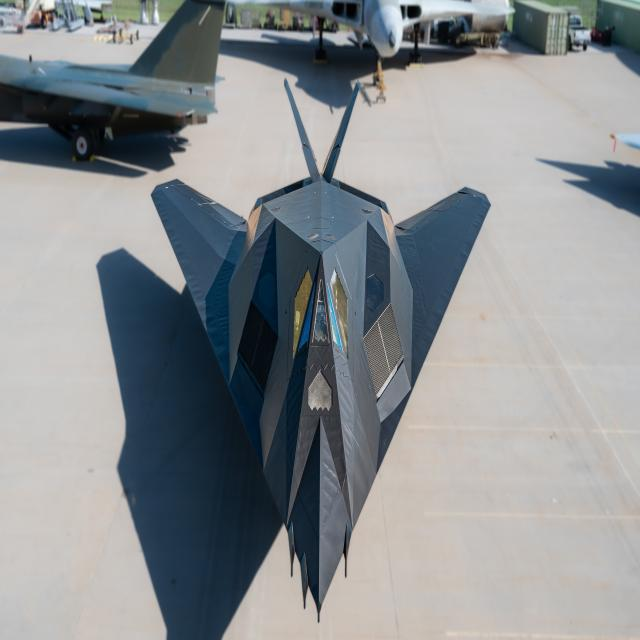F117: (143, 28, 548, 640)
